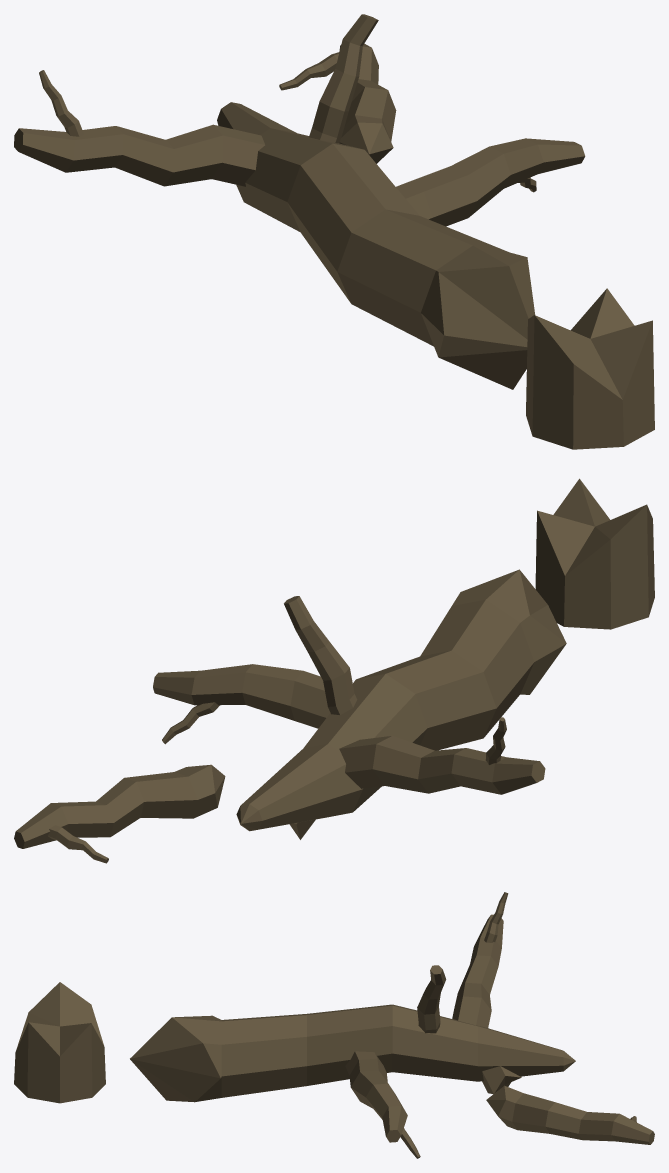
File: Tree_dead_fallen.fbx
The picture shows the model from 3 angles, top to bottom: view 1: azimuth 30°, elevation 25°; view 2: azimuth 150°, elevation 25°; view 3: azimuth 270°, elevation 25°; orthographic projection. The views are drawn at different scales.
Parts seen in each view (by area): view 1: Trunk, broken_trunk, R_Branch, L_Branch, F_Branch, B_Branch, R_subBranch, F_subBranch; view 2: Trunk, broken_trunk, F_Branch, R_Branch, L_Branch, B_Branch, F_subBranch, L_subBranch; view 3: Trunk, broken_trunk, F_Branch, R_Branch, L_Branch, B_Branch, broken_branch, R_subBranch.
Boxes of the visible parts, x1,y1,x2,y2 form: Trunk: (217,102,535,389); broken_trunk: (526,288,654,449); R_Branch: (14,124,264,186); L_Branch: (396,138,585,226); F_Branch: (339,43,396,163); B_Branch: (309,14,378,143); R_subBranch: (39,70,83,136); F_subBranch: (279,52,339,90); Trunk: (236,569,566,831); broken_trunk: (535,478,654,629); F_Branch: (14,764,225,848); R_Branch: (339,736,545,794); L_Branch: (153,664,330,728); B_Branch: (284,596,357,714); F_subBranch: (47,825,108,863); L_subBranch: (162,702,219,744); Trunk: (130,1004,575,1102); broken_trunk: (14,982,105,1103); F_Branch: (486,1085,654,1144); R_Branch: (452,914,503,1027); L_Branch: (345,1051,407,1142); B_Branch: (417,965,446,1033); broken_branch: (482,1065,521,1094); R_subBranch: (484,892,508,942).
Bounding box in the file's own units: 3.99 × 1.71 × 6.56.
